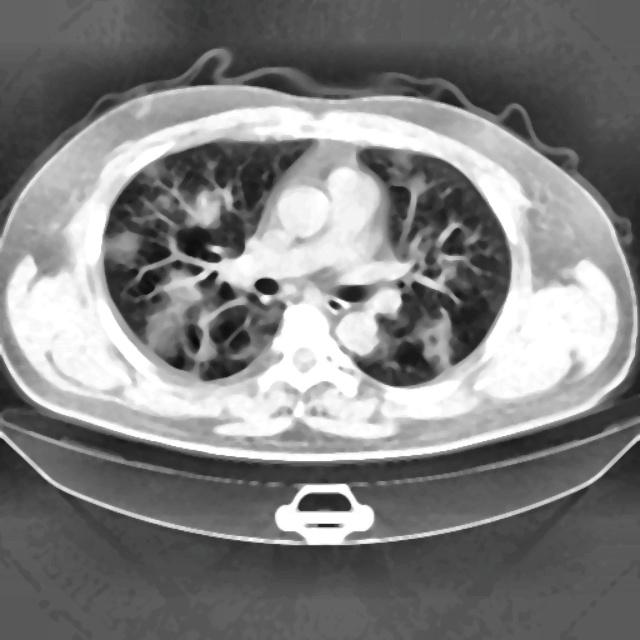covid: (1, 52, 637, 468)
